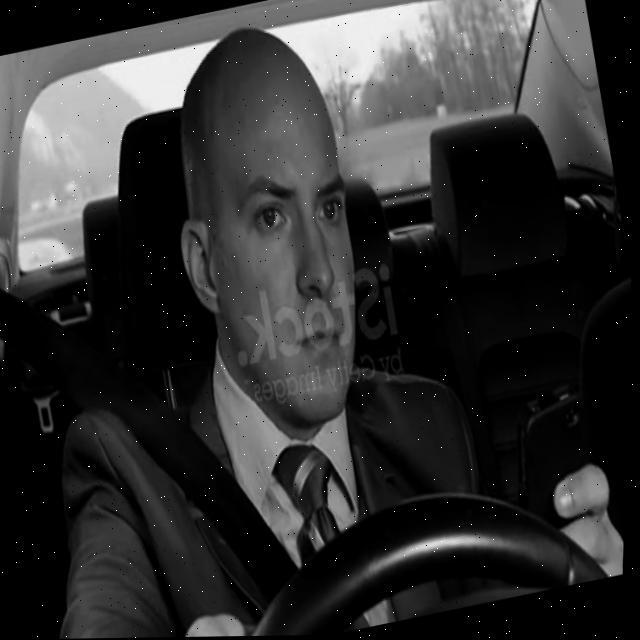PhoneCall: (503, 386, 608, 532)
